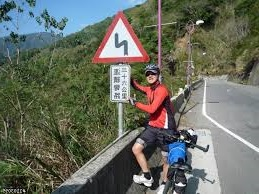Double_bend_left: (89, 9, 154, 65)
